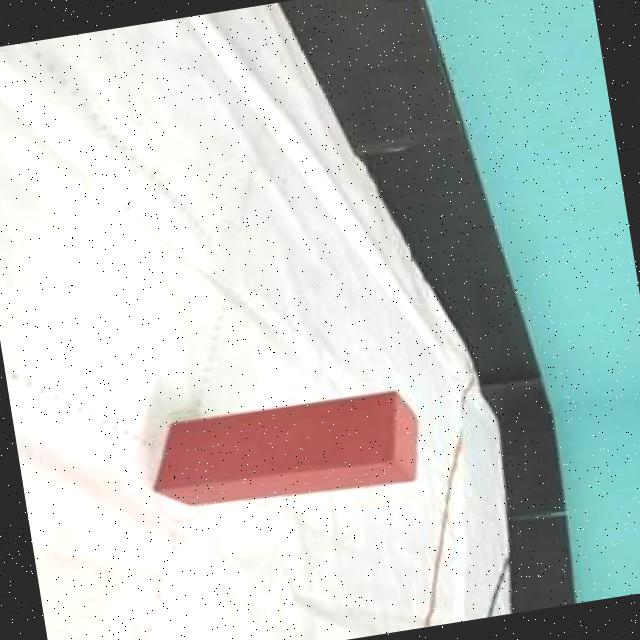redbox: (143, 386, 430, 520)
